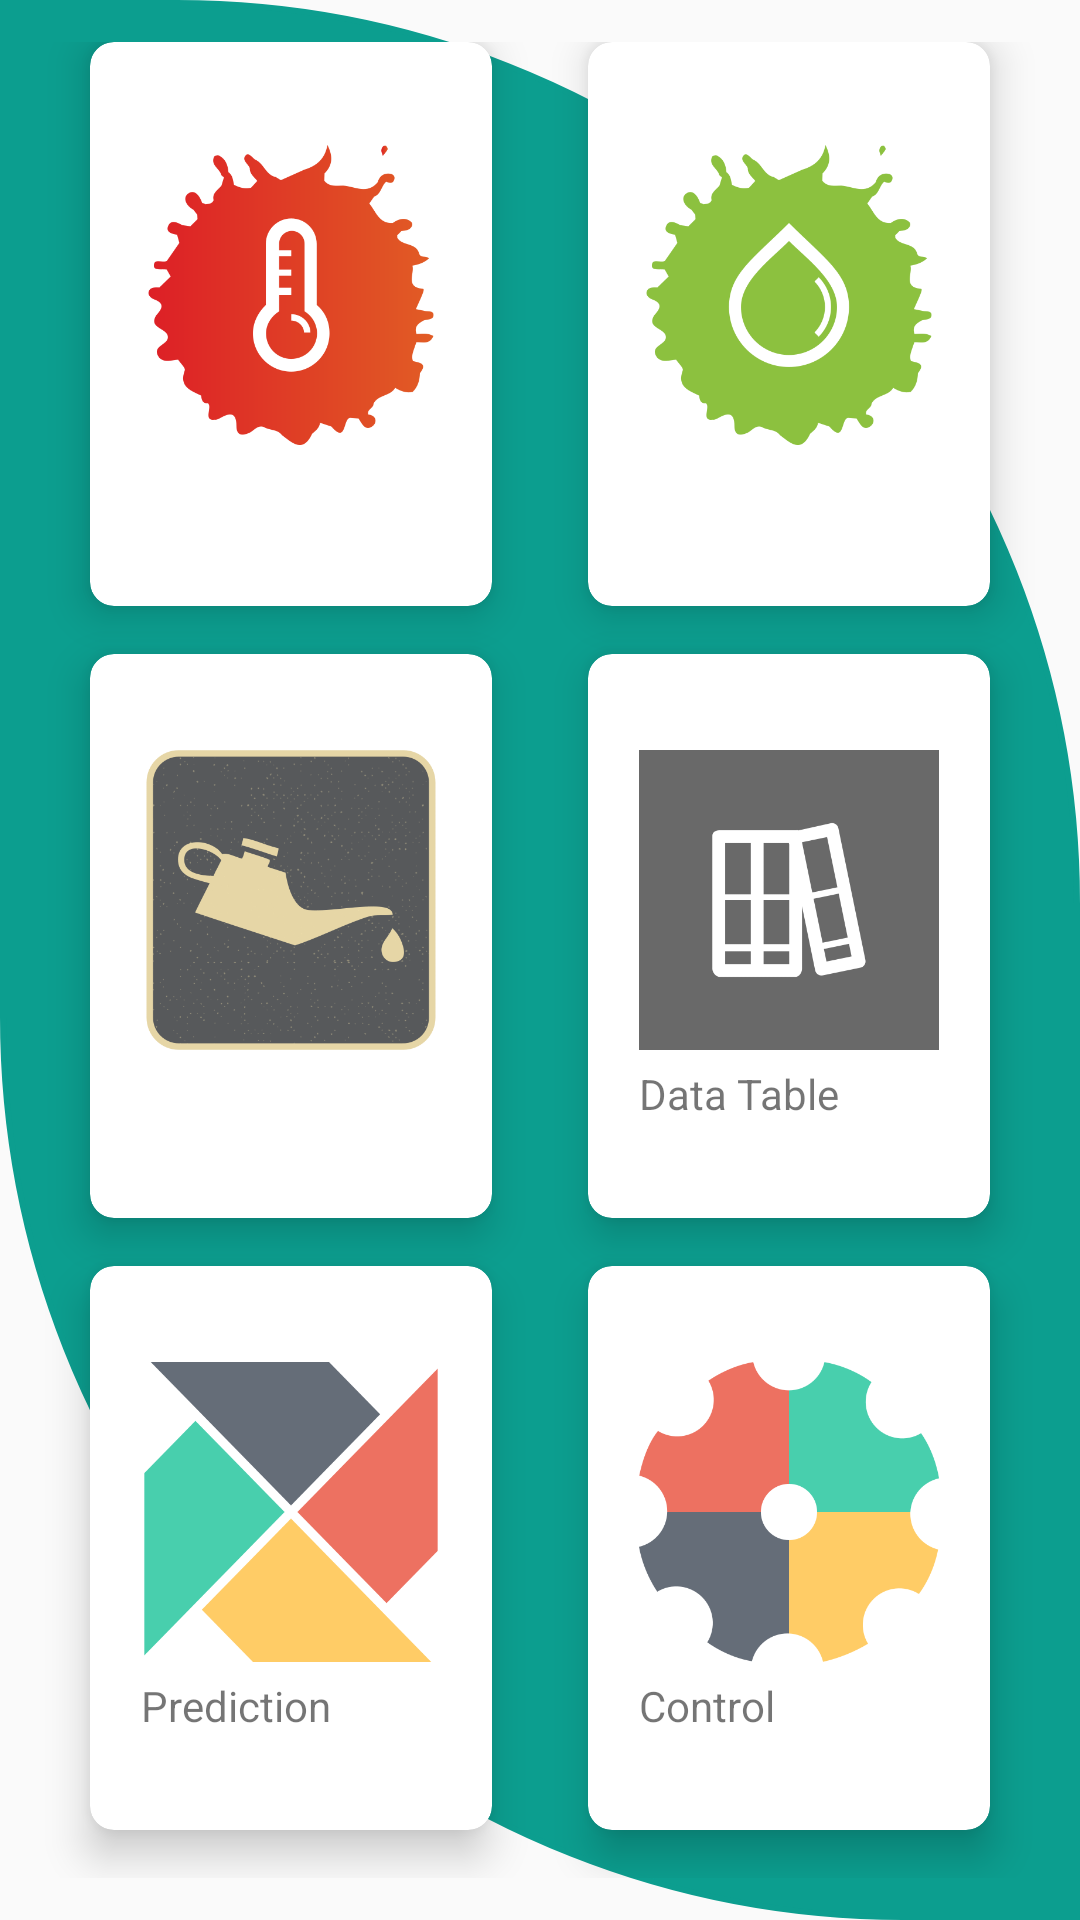

Locate icon controls on the screen. Image size 1080×1920, boxes as (x1=x1, y1=y1, x2=x2, y2=y2).
humidity: (x1=646, y1=145, x2=932, y2=445)
setting: (x1=639, y1=1362, x2=939, y2=1662)
thermometer: (x1=148, y1=145, x2=434, y2=445)
